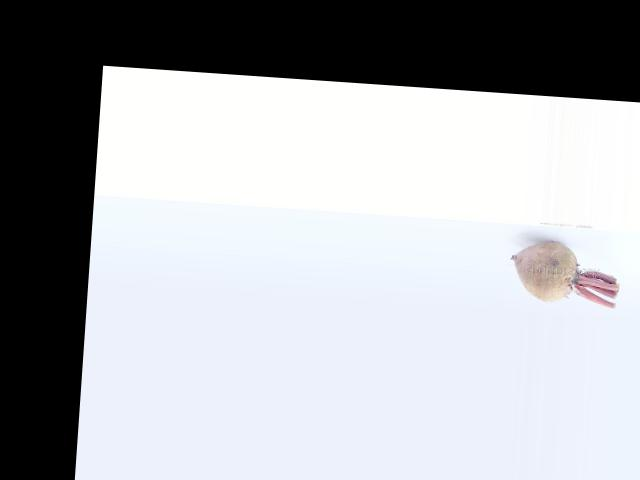beet: (509, 239, 620, 307)
